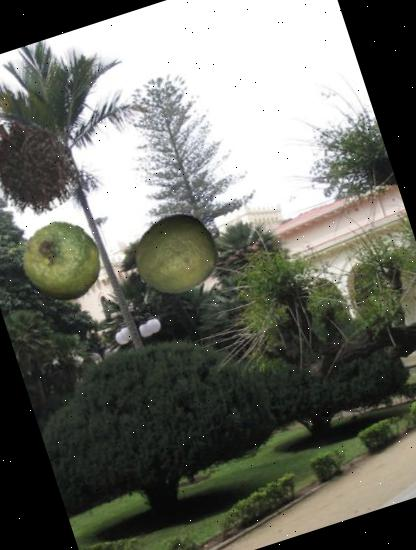Limes: (122, 202, 228, 308), (11, 211, 112, 312)
Rambutan: (0, 103, 89, 229)
